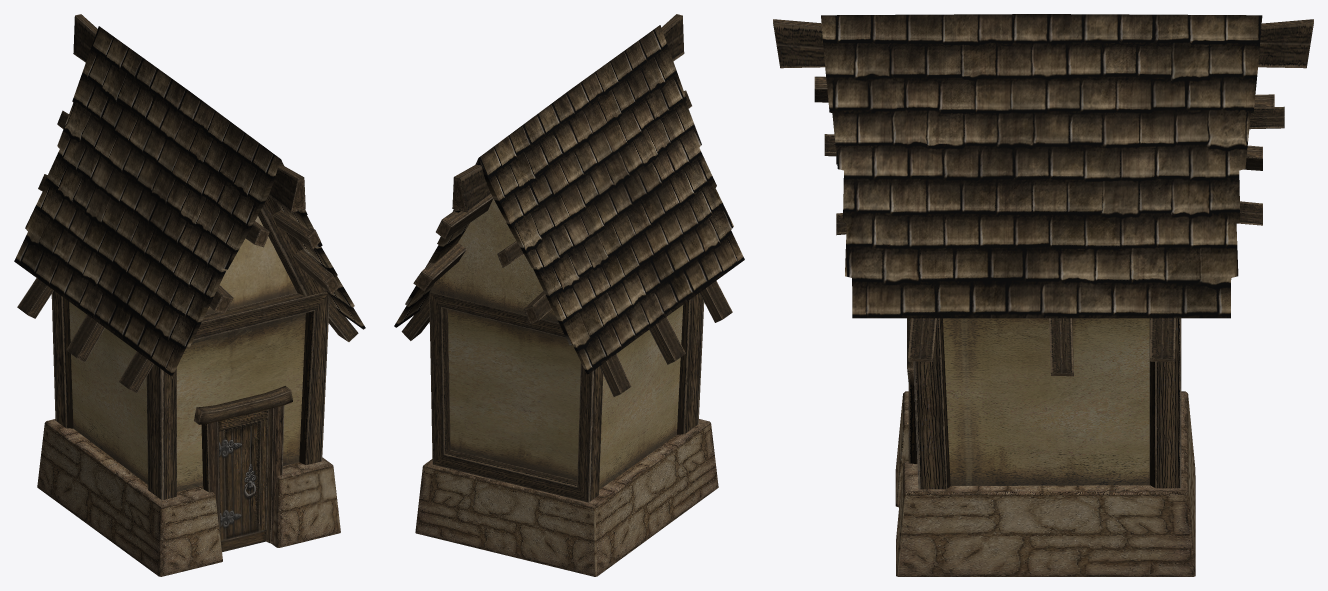
File: House_Small_01.fbx
3 renders of one model, left to right at view 1: azimuth 30°, elevation 25°; view 2: azimuth 150°, elevation 25°; view 3: azimuth 270°, elevation 25°, orthographic. The views are drawn at different scales.
Visible parts, largest first — view 1: House_Small_01; view 2: House_Small_01; view 3: House_Small_01.
Part boxes in pixels (bbox=[...]): House_Small_01: bbox=[14, 14, 365, 576]; House_Small_01: bbox=[394, 14, 744, 576]; House_Small_01: bbox=[773, 14, 1313, 576].
Size of the model in its own units: 4.89 by 8.43 by 8.12.
